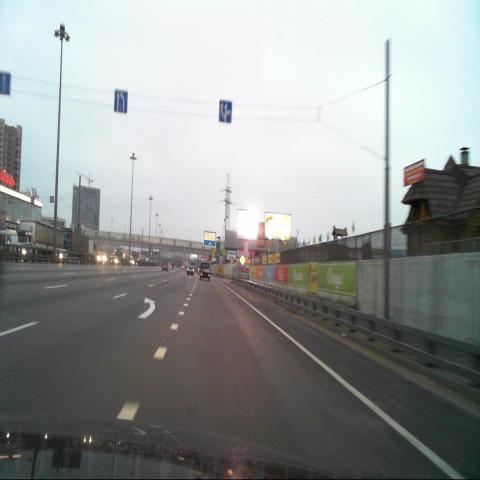5_15_3: (219, 100, 231, 123)
